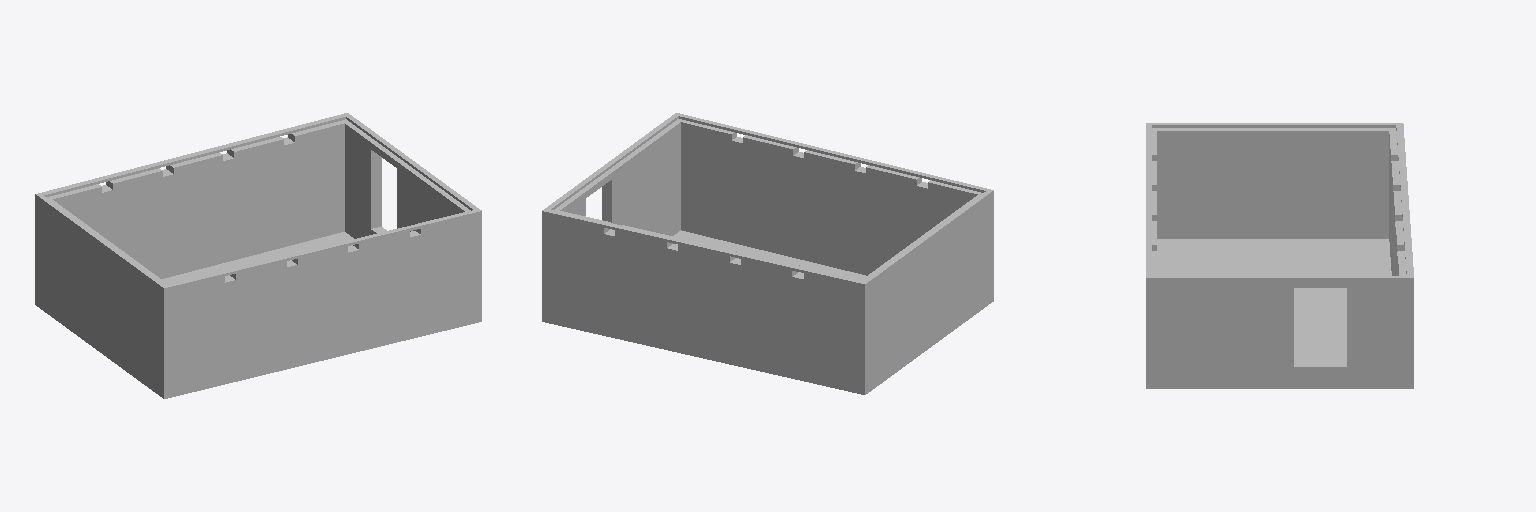
File: dolnikomora.obj
3 renders of one model, left to right at view 1: azimuth 30°, elevation 25°; view 2: azimuth 150°, elevation 25°; view 3: azimuth 270°, elevation 25°, orthographic.
Visible parts, largest first — view 1: Mesh1 dolni_komora1 Model; view 2: Mesh1 dolni_komora1 Model; view 3: Mesh1 dolni_komora1 Model.
Part boxes in pixels (bbox=[...]): Mesh1 dolni_komora1 Model: bbox=[35, 113, 481, 398]; Mesh1 dolni_komora1 Model: bbox=[542, 113, 993, 394]; Mesh1 dolni_komora1 Model: bbox=[1146, 123, 1413, 388].
Size of the model in its own units: 6.3 by 2.1 by 4.61.